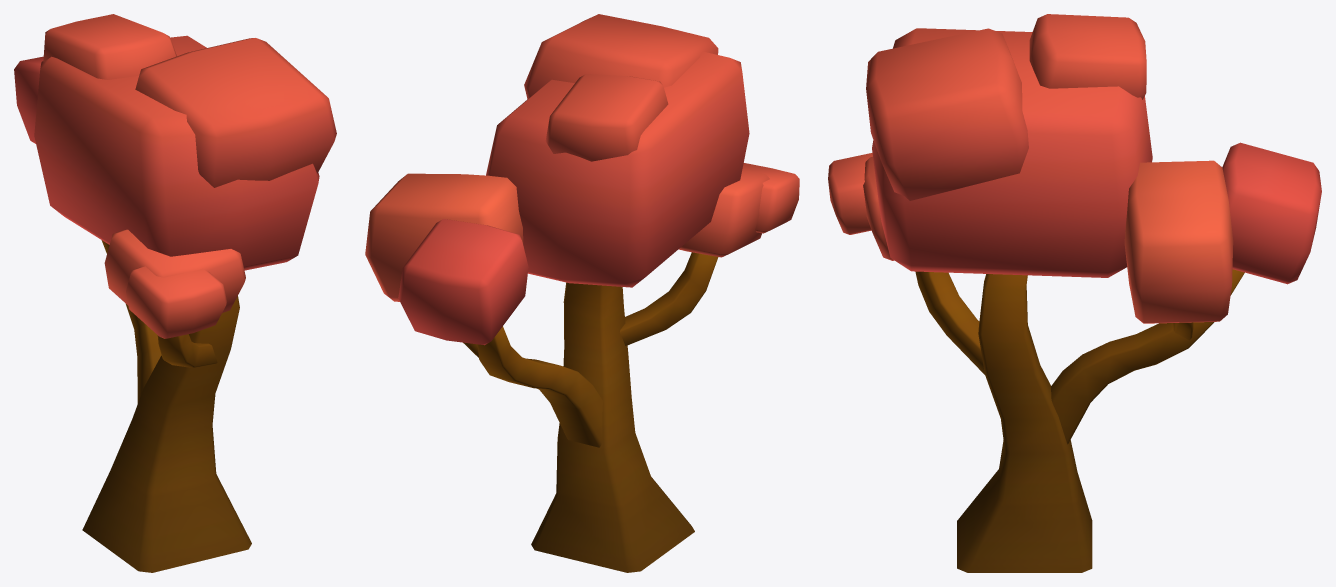
The model's file is Tree_E_5_.fbx.
The picture shows the model from 3 angles, left to right: view 1: azimuth 30°, elevation 25°; view 2: azimuth 150°, elevation 25°; view 3: azimuth 270°, elevation 25°; orthographic projection. The views are drawn at different scales.
Visible parts, largest first — view 1: Tree_E_5; view 2: Tree_E_5; view 3: Tree_E_5.
Boxes of the visible parts, x1,y1,x2,y2 form: Tree_E_5: (14,14,336,572); Tree_E_5: (365,14,799,572); Tree_E_5: (828,14,1321,572).
Size of the model in its own units: 282 by 489 by 435.
